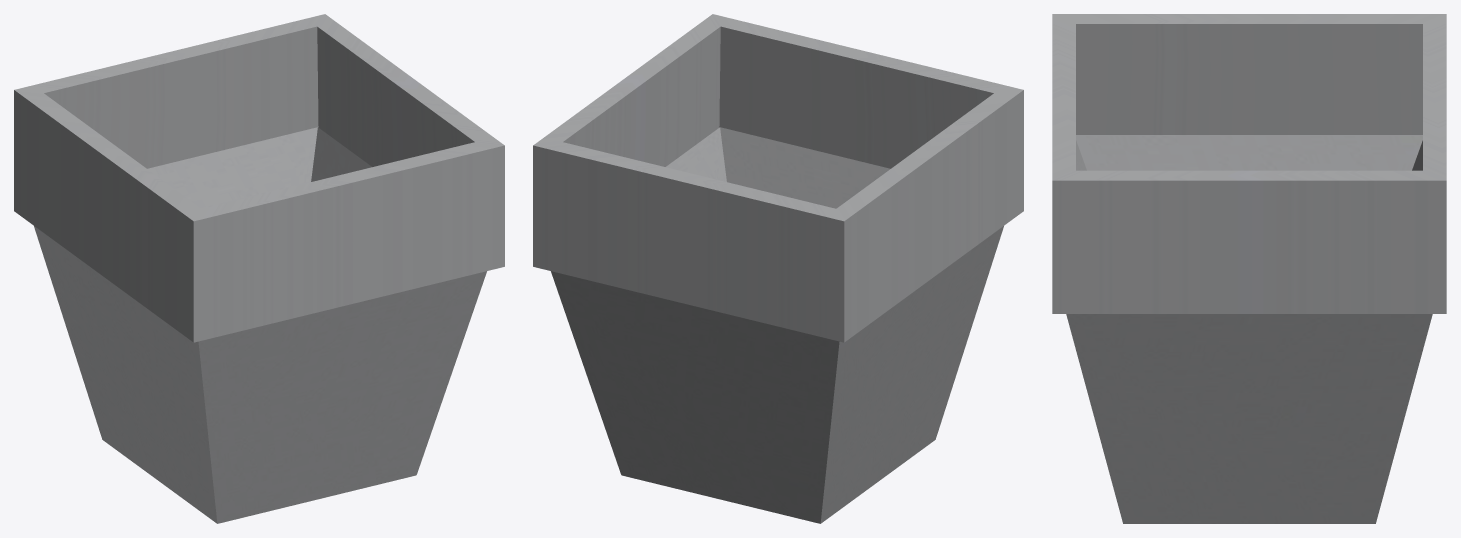
File: TrashCan.fbx
The picture shows the model from 3 angles, left to right: view 1: azimuth 30°, elevation 25°; view 2: azimuth 150°, elevation 25°; view 3: azimuth 270°, elevation 25°; orthographic projection. The views are drawn at different scales.
Parts seen in each view (by area): view 1: Cube; view 2: Cube; view 3: Cube.
Part boxes in pixels (bbox=[...]): Cube: bbox=[14, 14, 504, 523]; Cube: bbox=[533, 14, 1023, 523]; Cube: bbox=[1052, 14, 1446, 523].
Size of the model in its own units: 173 by 180 by 173.
